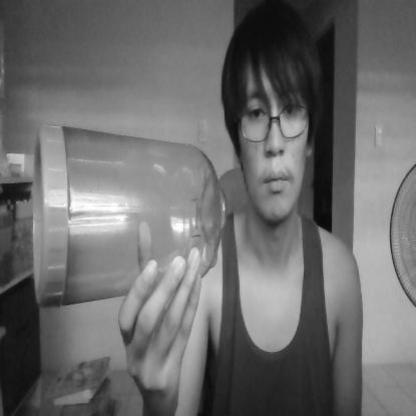Plastic Bottle: (25, 116, 229, 312)
